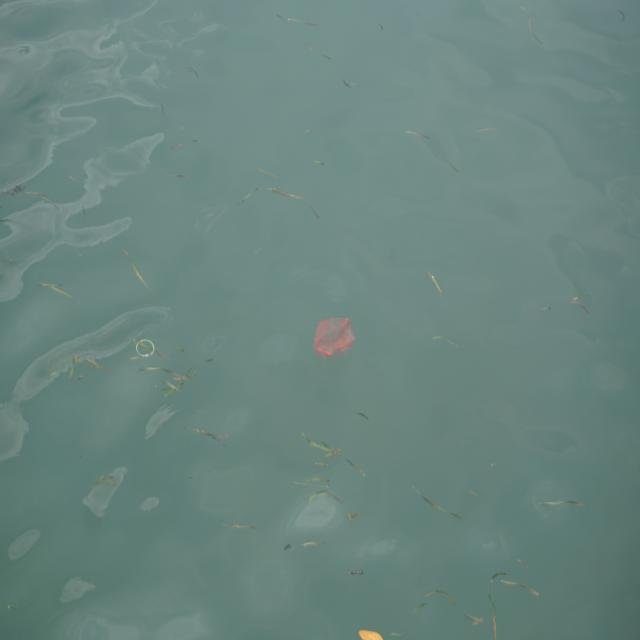Kantong Plastik: (312, 311, 361, 364)
